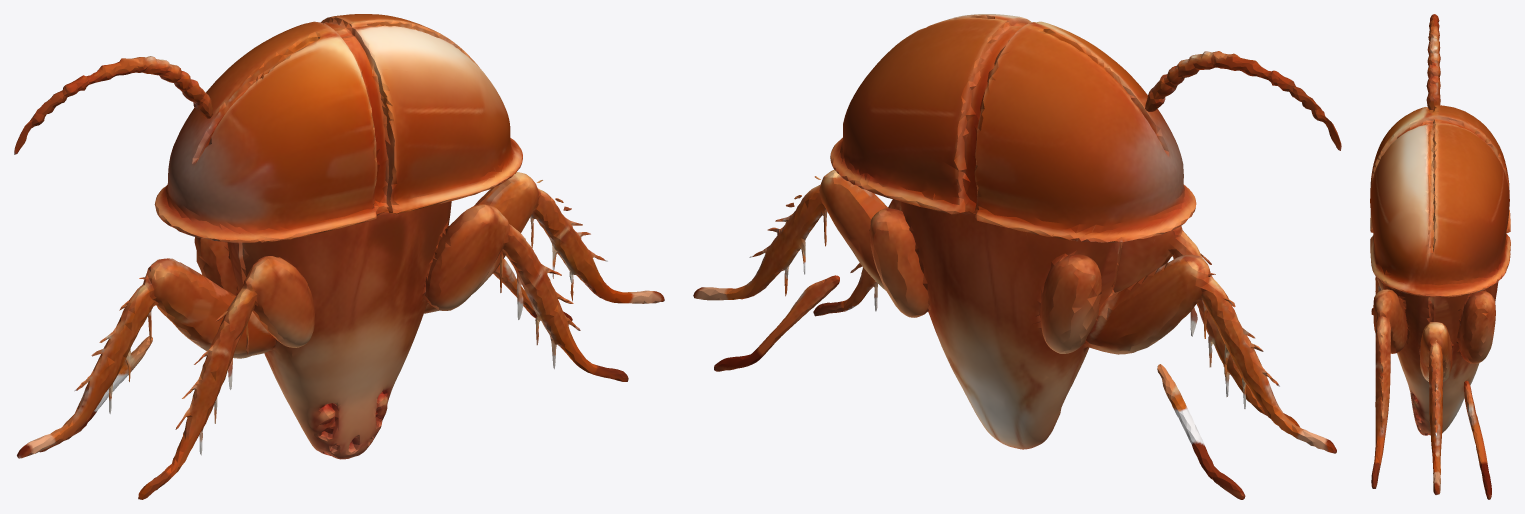
The model's file is Cockroach.glb.
The picture shows the model from 3 angles, left to right: view 1: azimuth 30°, elevation 25°; view 2: azimuth 150°, elevation 25°; view 3: azimuth 270°, elevation 25°; orthographic projection. The views are drawn at different scales.
Parts seen in each view (by area): view 1: Cockroach_Rodin; view 2: Cockroach_Rodin; view 3: Cockroach_Rodin.
Boxes of the visible parts, bbox=[...] form: Cockroach_Rodin: bbox=[14, 14, 664, 499]; Cockroach_Rodin: bbox=[693, 14, 1341, 499]; Cockroach_Rodin: bbox=[1370, 14, 1510, 499].
Bounding box in the file's own units: 3.76 × 2.48 × 0.9594.
Materials: 1 (1 with a texture image).
